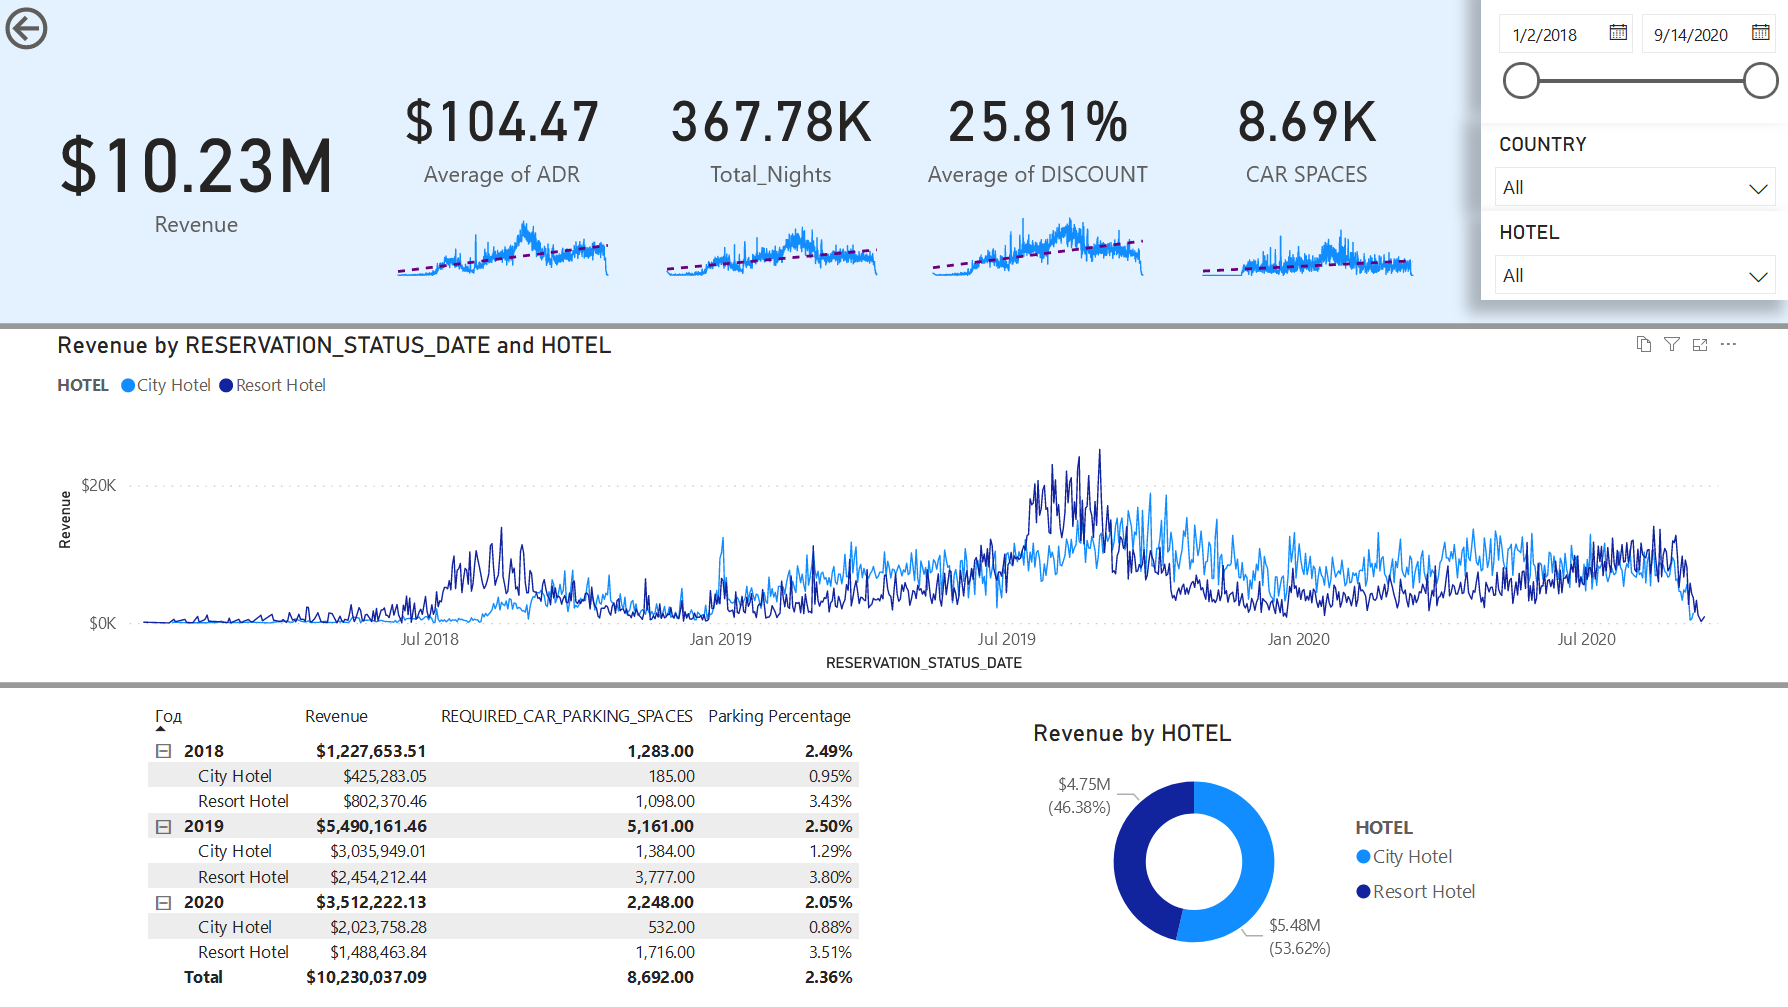

This screenshot's page, from the dashboard's own definition file:
{"tool":"powerbi","page":{"name":"Страница 1","canvas":[1280,720],"ordinal":0},"visuals":[{"type":"shape","box":[0,0,1280.4,233.2],"z":0},{"type":"shape","box":[0,93.1,1280.4,280.2],"z":1000},{"type":"shape","box":[0,349.4,1280.4,280.2],"z":2000},{"type":"card","fields":{"Values":["Sum(Лист1 (2).Revenue)"]},"box":[20.4,42.6,242.1,156.9],"z":3000},{"type":"card","fields":{"Values":["Лист1 (2).Total_Nights"]},"box":[449.4,26.7,205.8,132.3],"z":4000},{"type":"card","fields":{"Values":["Avg(Лист1 (2).ADR)"]},"box":[257.1,26.7,205.8,132.3],"z":5000},{"type":"card","fields":{"Values":["Avg(Лист1 (2).DISCOUNT)"]},"box":[639.7,26.7,205.8,132.3],"z":6000},{"type":"lineChart","fields":{"Category":["Лист1 (2).RESERVATION_STATUS_DATE"],"Y":["Sum(Лист1 (2).Revenue)"],"Series":["Лист1 (2).HOTEL"]},"box":[37.2,236.7,1207.7,247.4],"z":7000},{"type":"slicer","fields":{"Values":["Лист1 (2).COUNTRY"]},"box":[1059.6,87.8,220.8,63],"z":8000},{"type":"slicer","fields":{"Values":["Лист1 (2).HOTEL"]},"box":[1059.6,150.7,220.8,63.8],"z":9000},{"type":"lineChart","fields":{"Category":["Лист1 (2).RESERVATION_STATUS_DATE"],"Y":["Sum(Лист1 (2).ADR)"]},"box":[270.6,138.4,179.9,64.1],"z":10000},{"type":"lineChart","fields":{"Category":["Лист1 (2).RESERVATION_STATUS_DATE"],"Y":["Лист1 (2).Total_Nights"]},"box":[462.9,138.4,179.9,64.1],"z":11000},{"type":"lineChart","fields":{"Category":["Лист1 (2).RESERVATION_STATUS_DATE"],"Y":["Sum(Лист1 (2).DISCOUNT)"]},"box":[653.1,138.4,179.9,64.1],"z":12000},{"type":"lineChart","fields":{"Category":["Лист1 (2).RESERVATION_STATUS_DATE"],"Y":["Sum(Лист1 (2).REQUIRED_CAR_PARKING_SPACES)"]},"box":[845.4,138.4,179.9,64.1],"z":13000},{"type":"card","fields":{"Values":["Sum(Лист1 (2).REQUIRED_CAR_PARKING_SPACES)"]},"box":[832,26.7,205.8,132.3],"z":14000},{"type":"donutChart","fields":{"Category":["Лист1 (2).HOTEL"],"Y":["Sum(Лист1 (2).Revenue)"]},"box":[734.2,513.4,336.1,184.4],"z":15000},{"type":"pivotTable","fields":{"Rows":["Лист1 (2).RESERVATION_STATUS_DATE.Изменение.Иерархия дат.Год","Лист1 (2).HOTEL"],"Values":["Sum(Лист1 (2).Revenue)","Sum(Лист1 (2).REQUIRED_CAR_PARKING_SPACES)","Лист1 (2).Parking Percentage"]},"box":[102,496.6,525.8,217.2],"z":16000},{"type":"actionButton","box":[0,0,100,40],"z":17000},{"type":"slicer","fields":{"Values":["Лист1 (2).RESERVATION_STATUS_DATE"]},"box":[1059.6,0,220.8,87.8],"z":17001}]}

Visuals, with their boxes in screenshot pixels (x1, y1, x2, y2), scaled from the page's 1280x720 canvas onto the 1788x1007 screenshot:
shape: 0/0/1787/326
shape: 0/130/1787/522
shape: 0/489/1787/881
card - Sum(Лист1 (2).Revenue): 28/60/367/279
card - Лист1 (2).Total_Nights: 628/37/915/222
card - Avg(Лист1 (2).ADR): 359/37/647/222
card - Avg(Лист1 (2).DISCOUNT): 894/37/1181/222
lineChart - Лист1 (2).RESERVATION_STATUS_DATE x Sum(Лист1 (2).Revenue): 52/331/1739/677
slicer - Лист1 (2).COUNTRY: 1480/123/1787/211
slicer - Лист1 (2).HOTEL: 1480/211/1787/300
lineChart - Лист1 (2).RESERVATION_STATUS_DATE x Sum(Лист1 (2).ADR): 378/194/629/283
lineChart - Лист1 (2).RESERVATION_STATUS_DATE x Лист1 (2).Total_Nights: 647/194/898/283
lineChart - Лист1 (2).RESERVATION_STATUS_DATE x Sum(Лист1 (2).DISCOUNT): 912/194/1164/283
lineChart - Лист1 (2).RESERVATION_STATUS_DATE x Sum(Лист1 (2).REQUIRED_CAR_PARKING_SPACES): 1181/194/1432/283
card - Sum(Лист1 (2).REQUIRED_CAR_PARKING_SPACES): 1162/37/1450/222
donutChart - Лист1 (2).HOTEL x Sum(Лист1 (2).Revenue): 1026/718/1495/976
pivotTable - Лист1 (2).RESERVATION_STATUS_DATE.Изменение.Иерархия дат.Год x Лист1 (2).HOTEL: 142/695/877/998
actionButton: 0/0/140/56
slicer - Лист1 (2).RESERVATION_STATUS_DATE: 1480/0/1787/123
